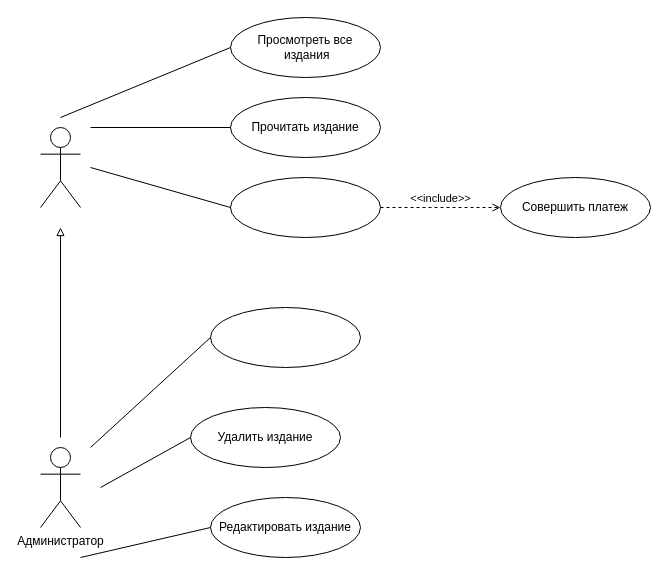
Some shapes in this 668 by 576 pixel diagram are drawn without their labels. Each missing label, with the centre of its shape:
Добавить издание: (x=285, y=337)
Подписаться на издание: (x=305, y=207)
Читатель: (x=60, y=167)
